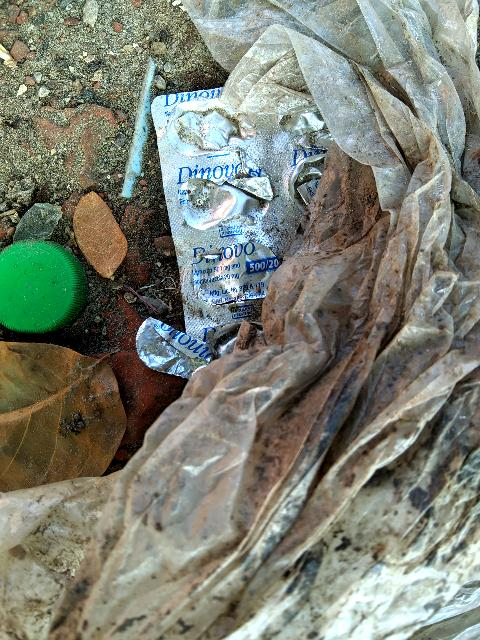medicine: (137, 78, 349, 373)
